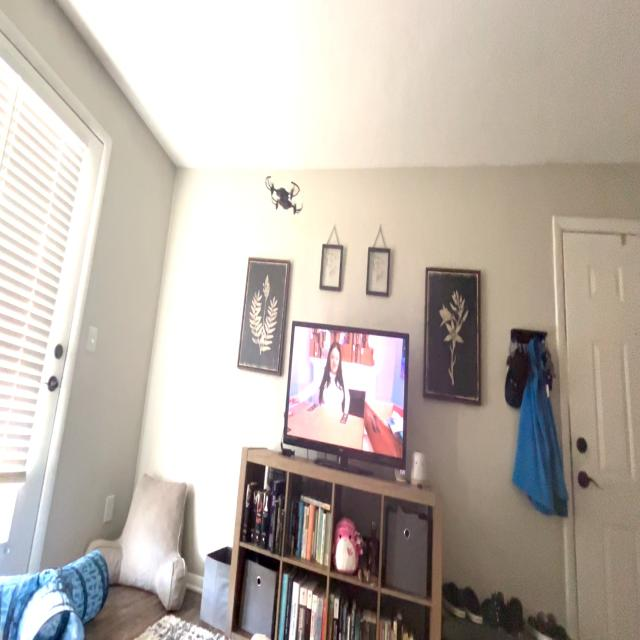drone: (258, 154, 306, 229)
